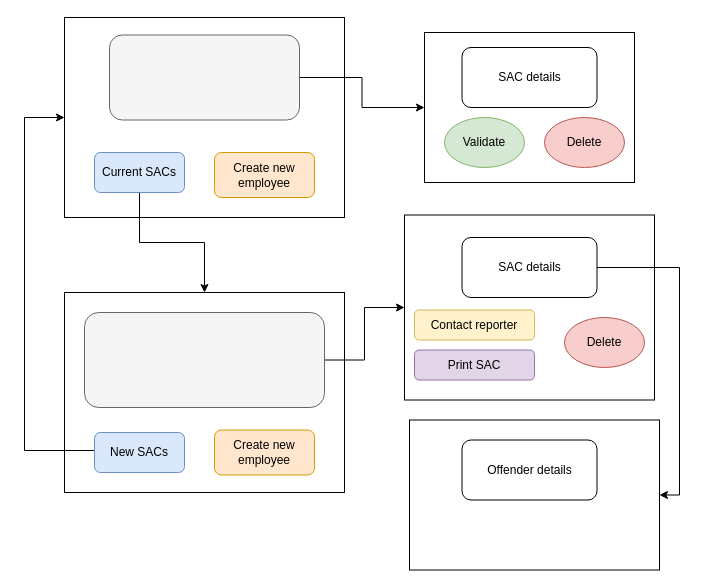
Some shapes in this 705 by 588 pixel diagram are drawn without their labels. Each missing label, with the centre of its shape:
"Currents SACs list with status" belongs at pixel 204 360.
"New SACs list" belongs at pixel 204 77.
